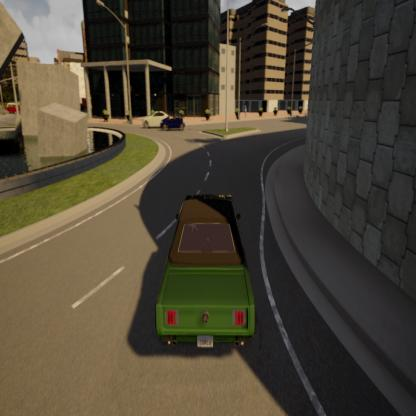Cars: (151, 186, 259, 362), (141, 107, 171, 130), (160, 111, 186, 132)
